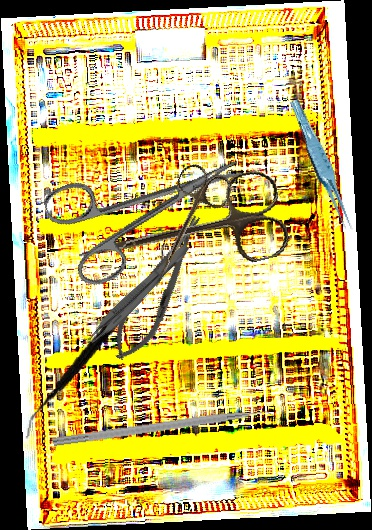Chopper: (52, 405, 283, 459)
Iris Scissors: (40, 122, 261, 293), (69, 166, 293, 303), (134, 160, 236, 299)
Needle Holder: (102, 207, 216, 369)
Spatula Surgical: (23, 231, 166, 453)
Tissue Forceps: (79, 237, 192, 352), (289, 96, 354, 236)
